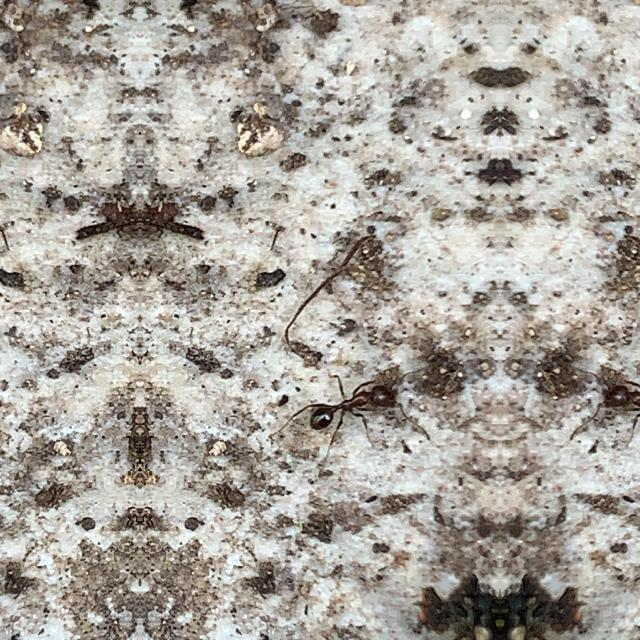Messor: (286, 368, 404, 447), (596, 367, 640, 446)
